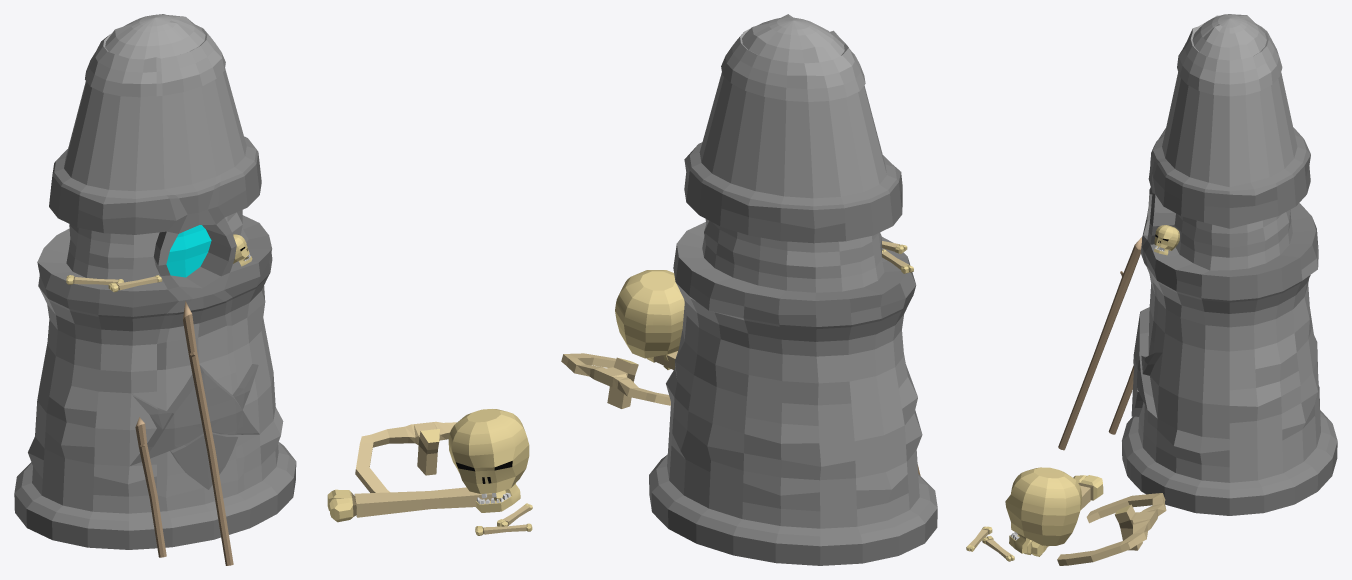
Rendered from rocasMonolito.fbx.
3 views of the same model, side by side, from view 1: azimuth 30°, elevation 25°; view 2: azimuth 150°, elevation 25°; view 3: azimuth 270°, elevation 25° (orthographic). The views are drawn at different scales.
Visible parts, largest first — view 1: Roca_Extrana, Cabeza_Entera2, Hueso11, Costilla_7, Estaca, Estaca1; view 2: Roca_Extrana, Cabeza_Entera2, Costilla_7; view 3: Roca_Extrana, Cabeza_Entera2, Costilla_7, Estaca, Hueso11, Cabeza_Entera4, Estaca1.
Boxes of the visible parts, x1,y1,x2,y2 form: Roca_Extrana: (14,14,296,549); Cabeza_Entera2: (448,409,529,512); Hueso11: (327,487,505,522); Costilla_7: (355,421,456,492); Estaca: (183,301,233,565); Estaca1: (135,417,166,557); Roca_Extrana: (649,14,937,565); Cabeza_Entera2: (615,270,684,369); Costilla_7: (561,353,670,408); Roca_Extrana: (1122,14,1337,515); Cabeza_Entera2: (1005,467,1081,553); Costilla_7: (1057,493,1166,565); Estaca: (1058,237,1141,450); Hueso11: (1024,475,1103,556); Cabeza_Entera4: (1154,225,1179,255); Estaca1: (1108,366,1133,434).
Bounding box in the file's own units: 4.59 × 5.14 × 3.92.
